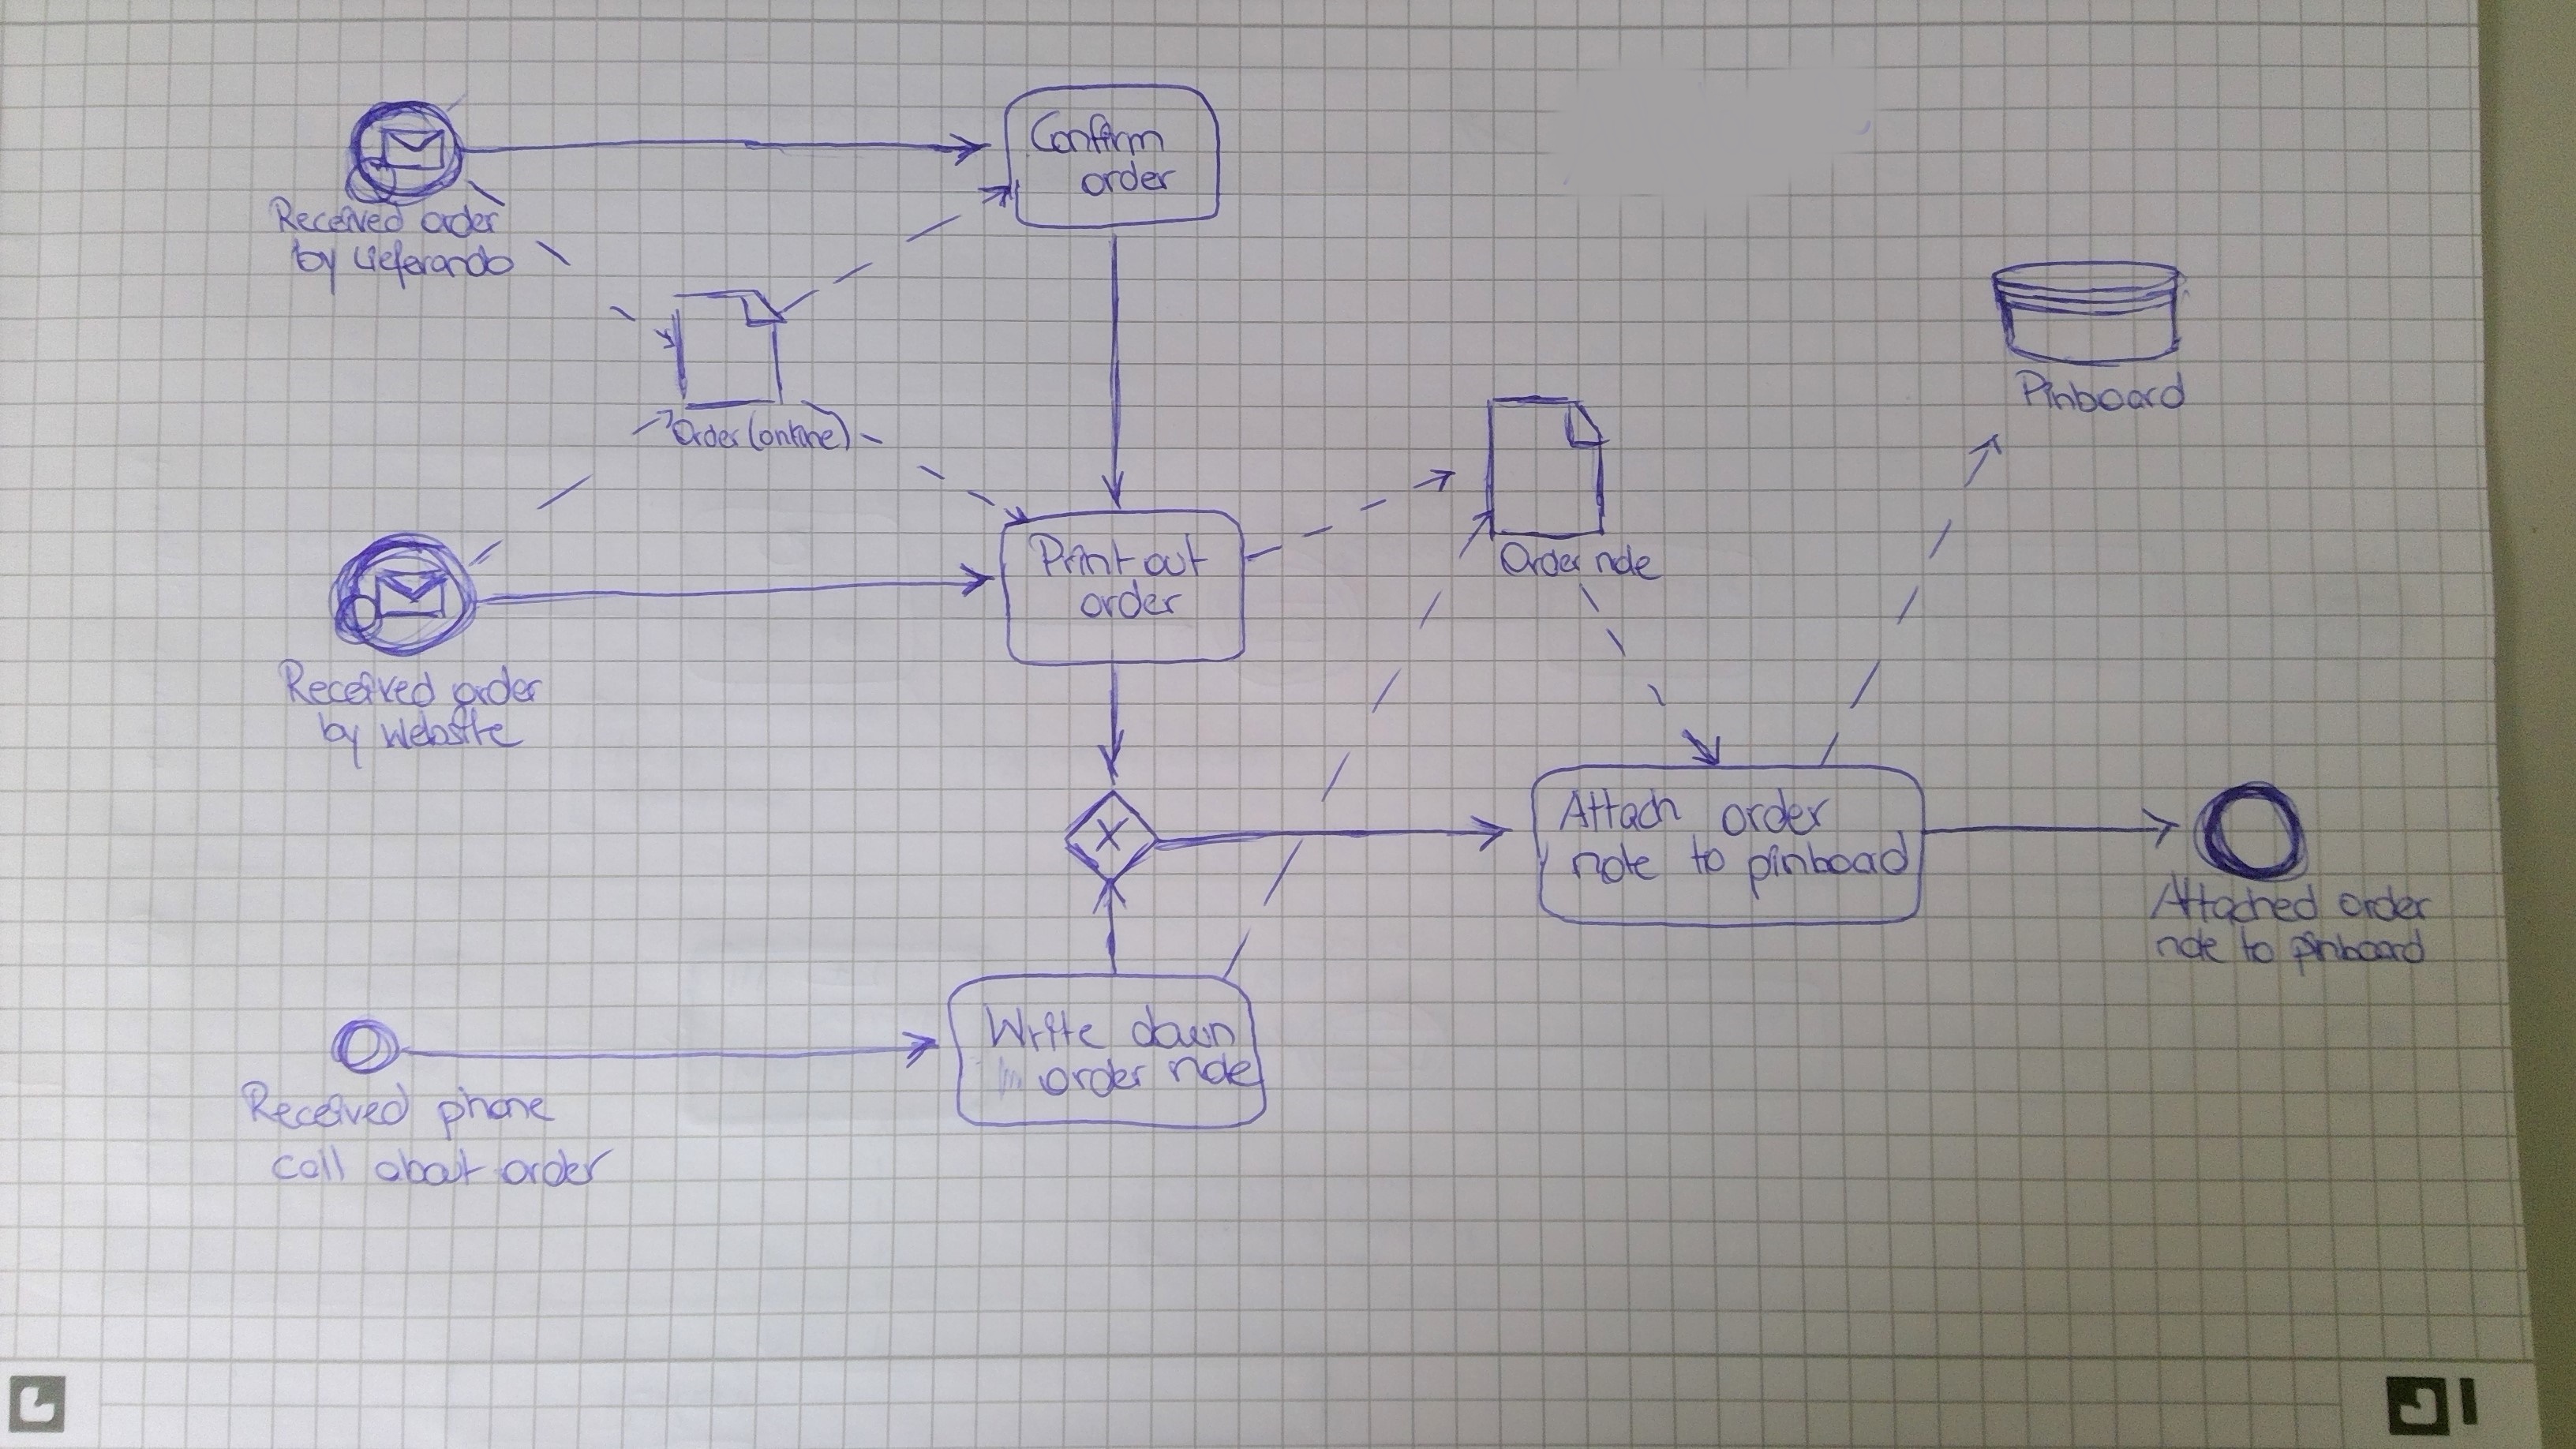(online): (743, 412, 853, 453)
Attach: (1555, 784, 1681, 833)
Attached: (2148, 872, 2325, 925)
Confirm: (1030, 108, 1164, 154)
Lieferando: (350, 237, 517, 290)
Order: (1491, 540, 1585, 582), (671, 410, 745, 451)
Pinboard: (2015, 366, 2189, 414)
Print: (1028, 527, 1134, 580)
Received: (241, 1077, 425, 1132), (278, 656, 439, 711), (262, 196, 405, 239)
Write: (977, 1005, 1108, 1053)
about: (373, 1146, 485, 1191)
by: (313, 709, 375, 771), (288, 235, 345, 299)
call: (269, 1143, 359, 1189)
down: (1129, 1007, 1246, 1054)
node: (1592, 540, 1667, 586)
note: (1564, 842, 1663, 893), (1162, 1053, 1265, 1095), (2151, 927, 2227, 968)
order: (1035, 1054, 1146, 1102), (1720, 789, 1835, 835), (499, 1146, 616, 1191), (2335, 878, 2436, 925), (1081, 582, 1187, 623), (1076, 159, 1185, 198), (453, 663, 543, 706), (419, 198, 506, 241)
out: (1141, 534, 1210, 582)
phone: (428, 1083, 552, 1143)
pinboard: (1744, 832, 1914, 899), (2286, 929, 2431, 977)
to: (1679, 832, 1727, 879), (2236, 925, 2281, 966)
website: (379, 711, 520, 755)
